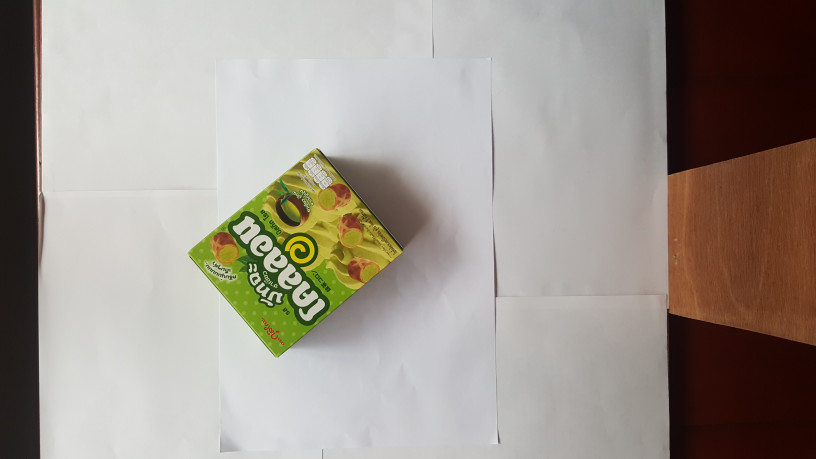collon-matcha: (187, 147, 405, 359)
